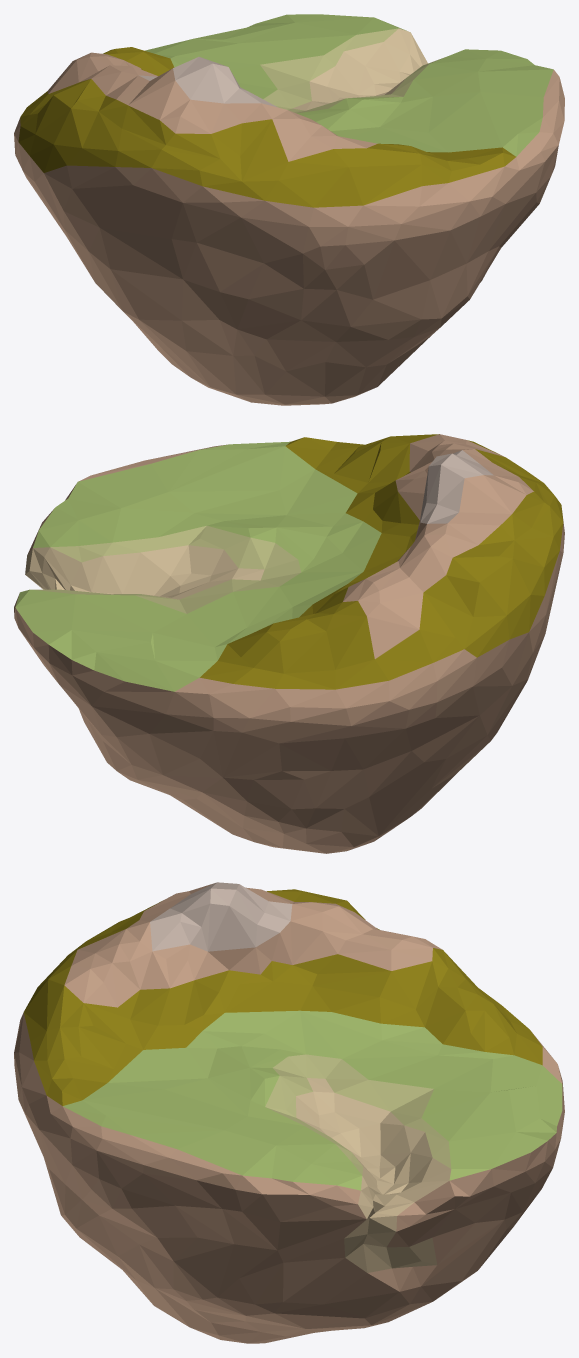
Rendered from World1IslandNoFoliage.fbx.
The picture shows the model from 3 angles, top to bottom: view 1: azimuth 30°, elevation 25°; view 2: azimuth 150°, elevation 25°; view 3: azimuth 270°, elevation 25°; orthographic projection. The views are drawn at different scales.
Parts seen in each view (by area): view 1: Icosphere; view 2: Icosphere; view 3: Icosphere.
Part boxes in pixels (left/top/right/bottom): Icosphere: left=14, top=14, right=564, bottom=405; Icosphere: left=14, top=434, right=564, bottom=853; Icosphere: left=14, top=882, right=564, bottom=1343.
Bounding box in the file's own units: 19235 × 14196 × 18348.
